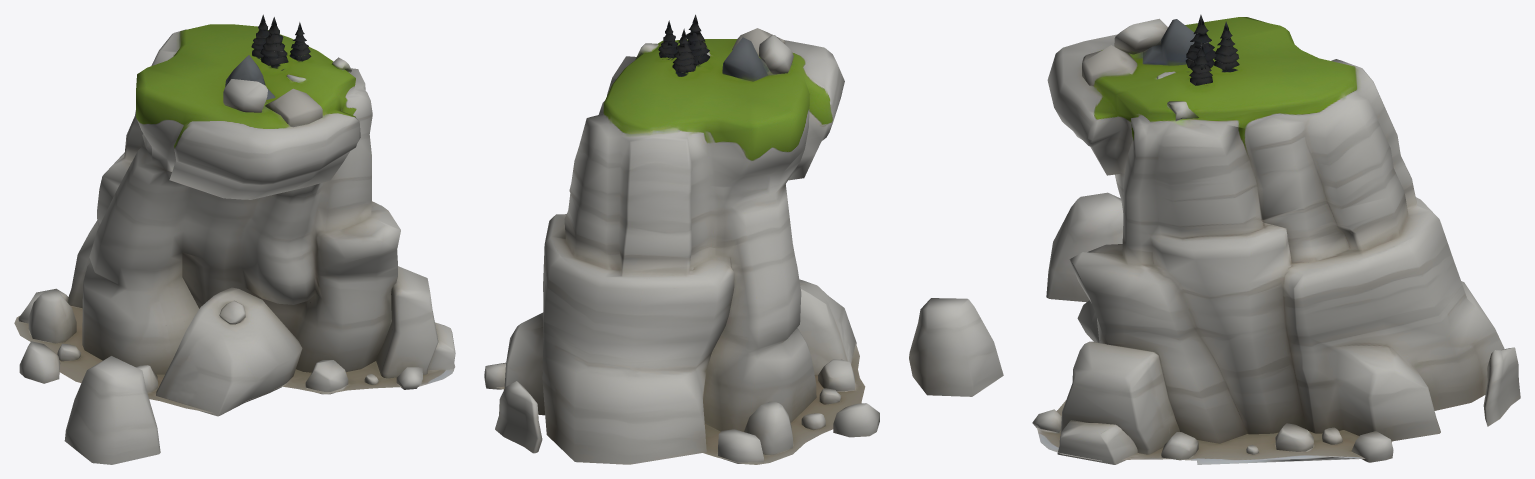
The model's file is rock_a.glb.
The picture shows the model from 3 angles, left to right: view 1: azimuth 30°, elevation 25°; view 2: azimuth 150°, elevation 25°; view 3: azimuth 270°, elevation 25°; orthographic projection. The views are drawn at different scales.
Parts seen in each view (by area): view 1: tripo_node_07d824cd-c94b-407a-b72c-12f45f7a893f; view 2: tripo_node_07d824cd-c94b-407a-b72c-12f45f7a893f; view 3: tripo_node_07d824cd-c94b-407a-b72c-12f45f7a893f.
Boxes of the visible parts, box(x1,y1,x2,y2) form: tripo_node_07d824cd-c94b-407a-b72c-12f45f7a893f: box(14, 14, 455, 464); tripo_node_07d824cd-c94b-407a-b72c-12f45f7a893f: box(484, 14, 1003, 464); tripo_node_07d824cd-c94b-407a-b72c-12f45f7a893f: box(1032, 14, 1520, 464).
Size of the model in its own units: 0.9995 by 0.8638 by 0.9956.
Materials: 1 (1 with a texture image).
